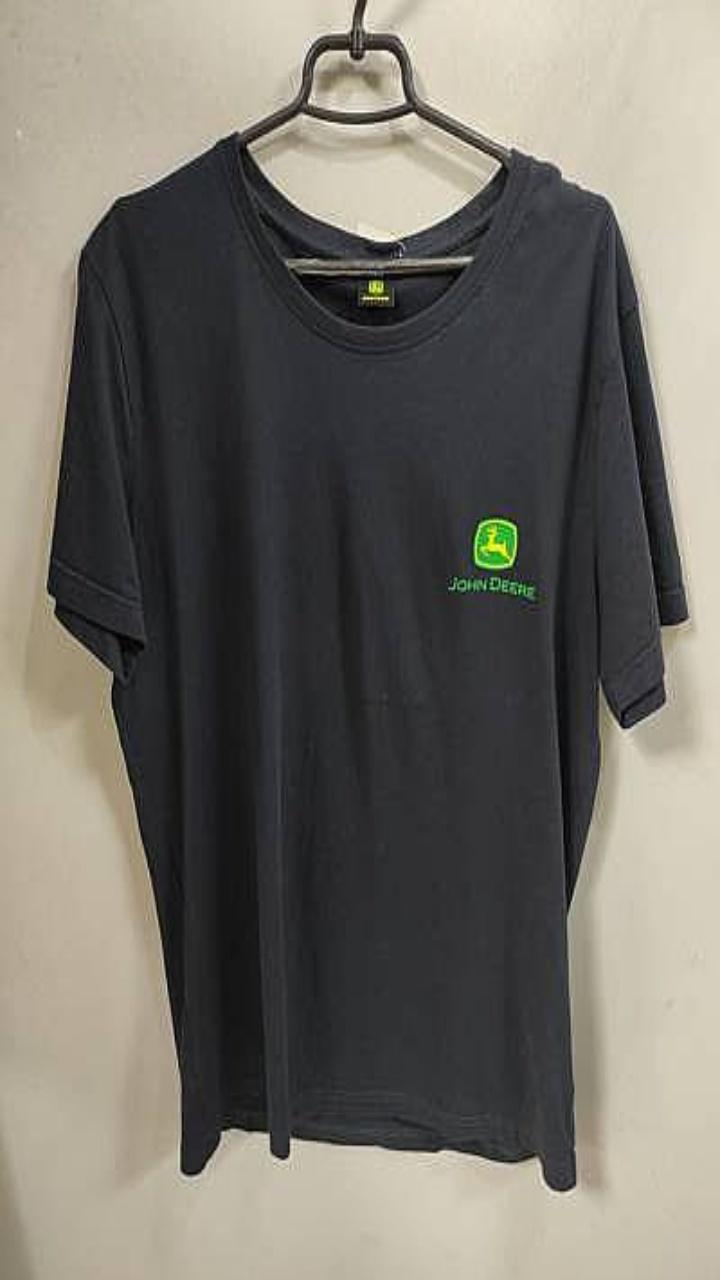T-Shirt: (47, 133, 687, 1190)
